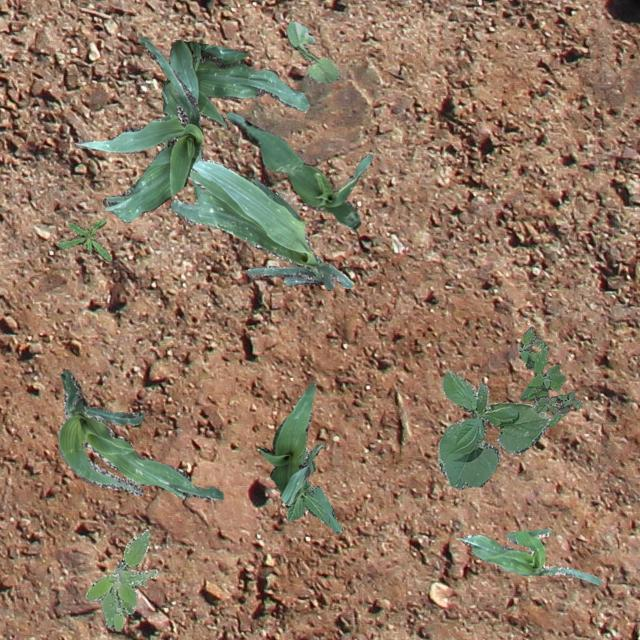crop: (170, 158, 352, 290), (160, 38, 308, 200), (74, 35, 202, 222), (56, 368, 222, 500), (226, 110, 372, 228), (436, 369, 550, 488), (256, 382, 322, 506), (460, 528, 600, 584), (286, 443, 342, 532), (286, 19, 338, 82)
weed: (85, 528, 156, 630), (518, 326, 582, 426), (56, 218, 110, 260)
